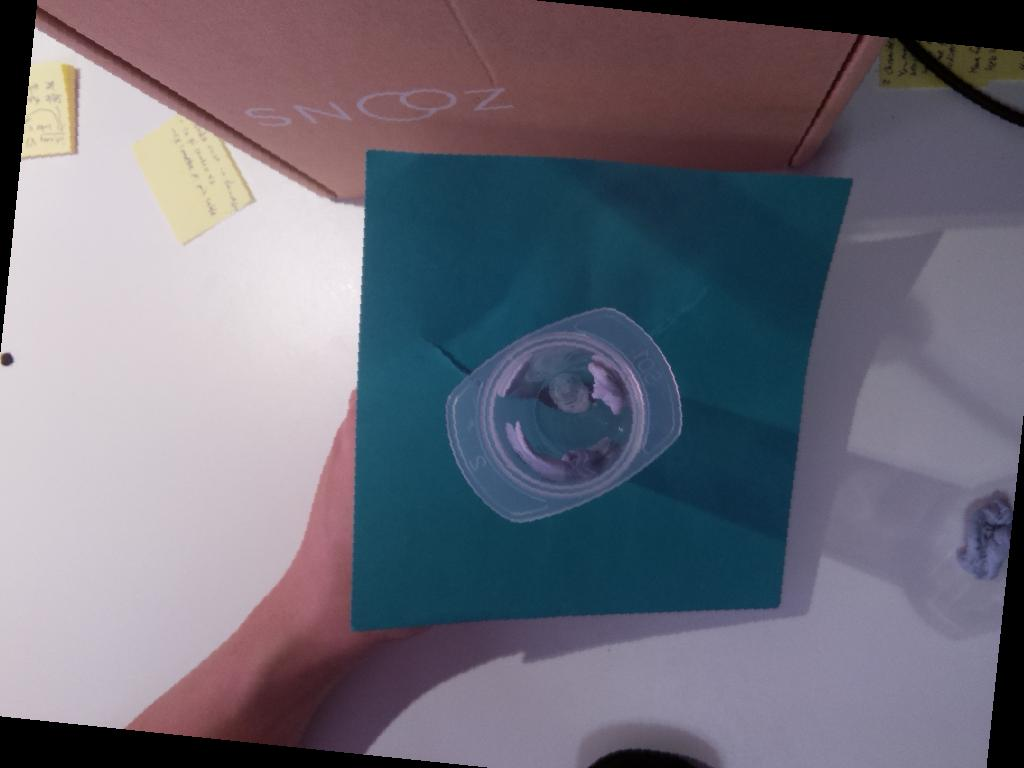dirty: (445, 306, 683, 523)
